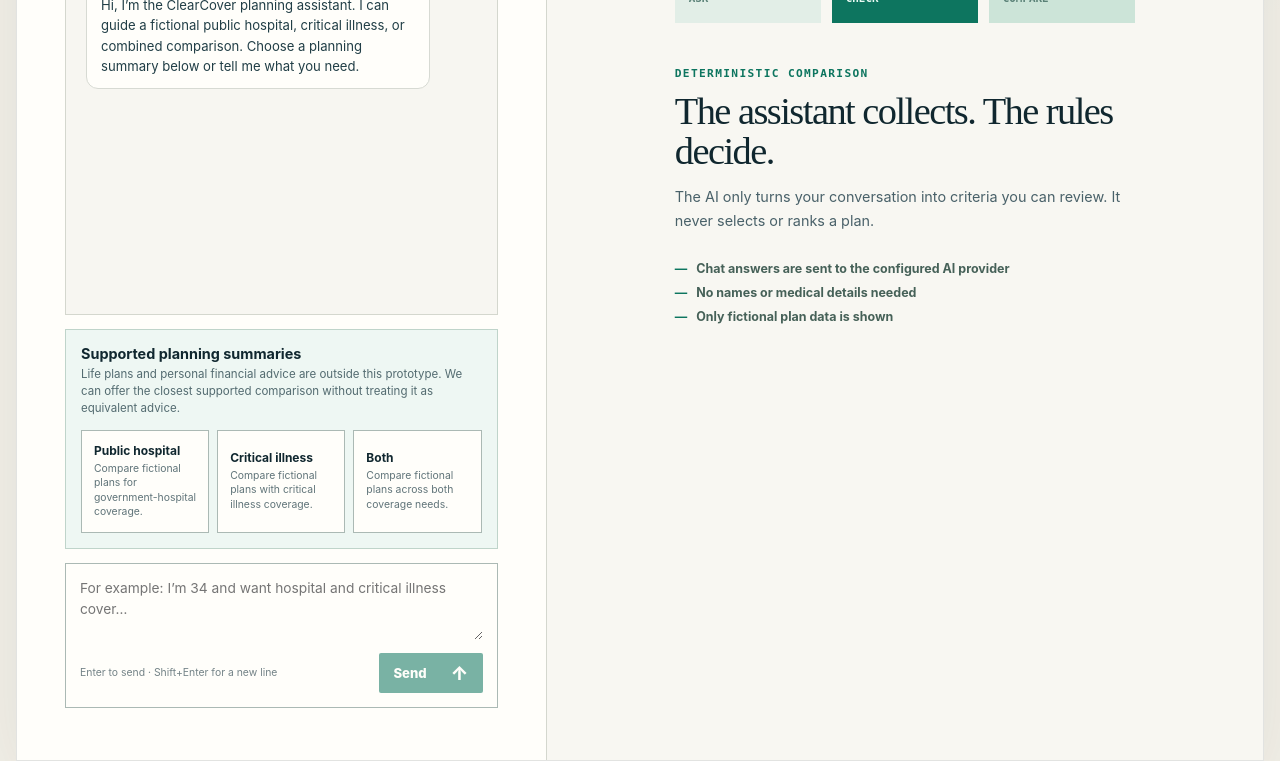
Test: InsurancePlanner › saves each completed comparison as a draft document
(page scrolled)
Type "My complete planning details" into the text box named "Reply to the planning assistant".
click(281, 609); type("My complete planning details")  # box [80,578,482,640]
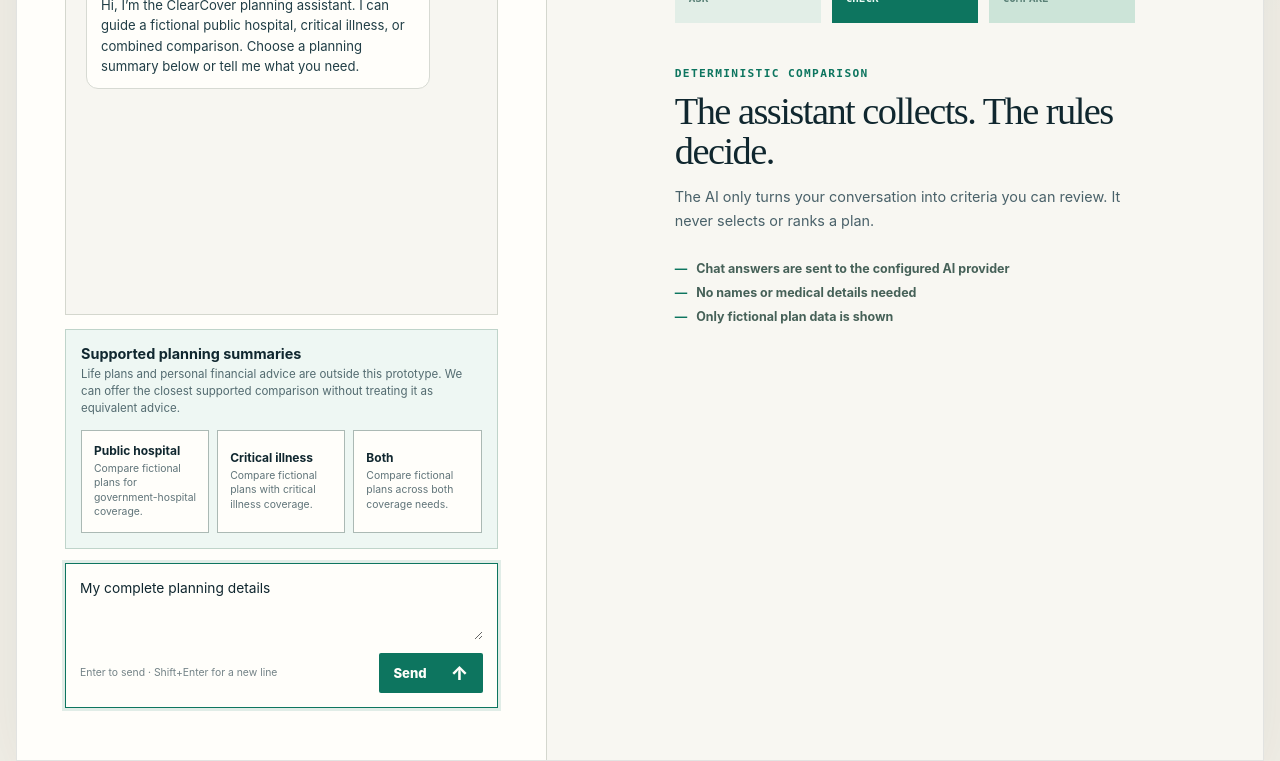
Click the button "Send ↑".
click(431, 673)  # box [379,653,483,693]
(page scrolled)
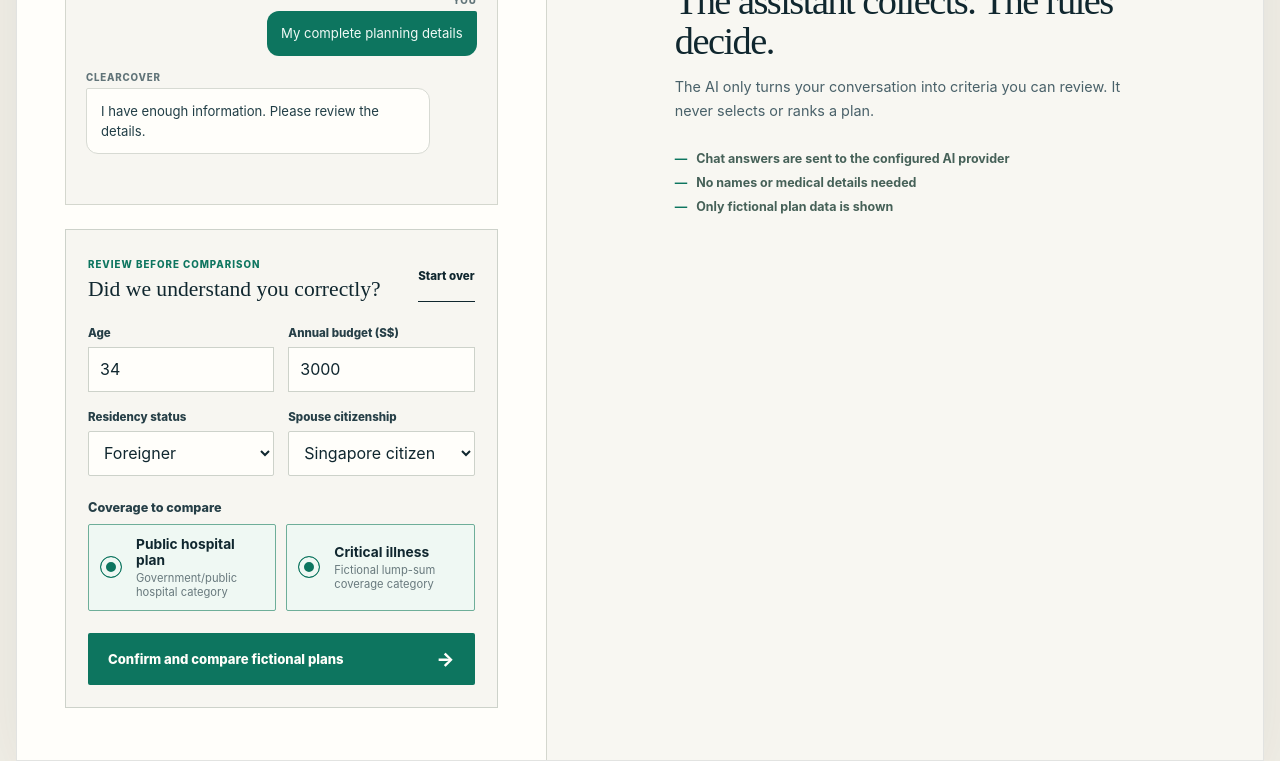
Click the button "Confirm and compare fictional plans →".
click(281, 659)  # box [88,633,474,685]
(page scrolled)
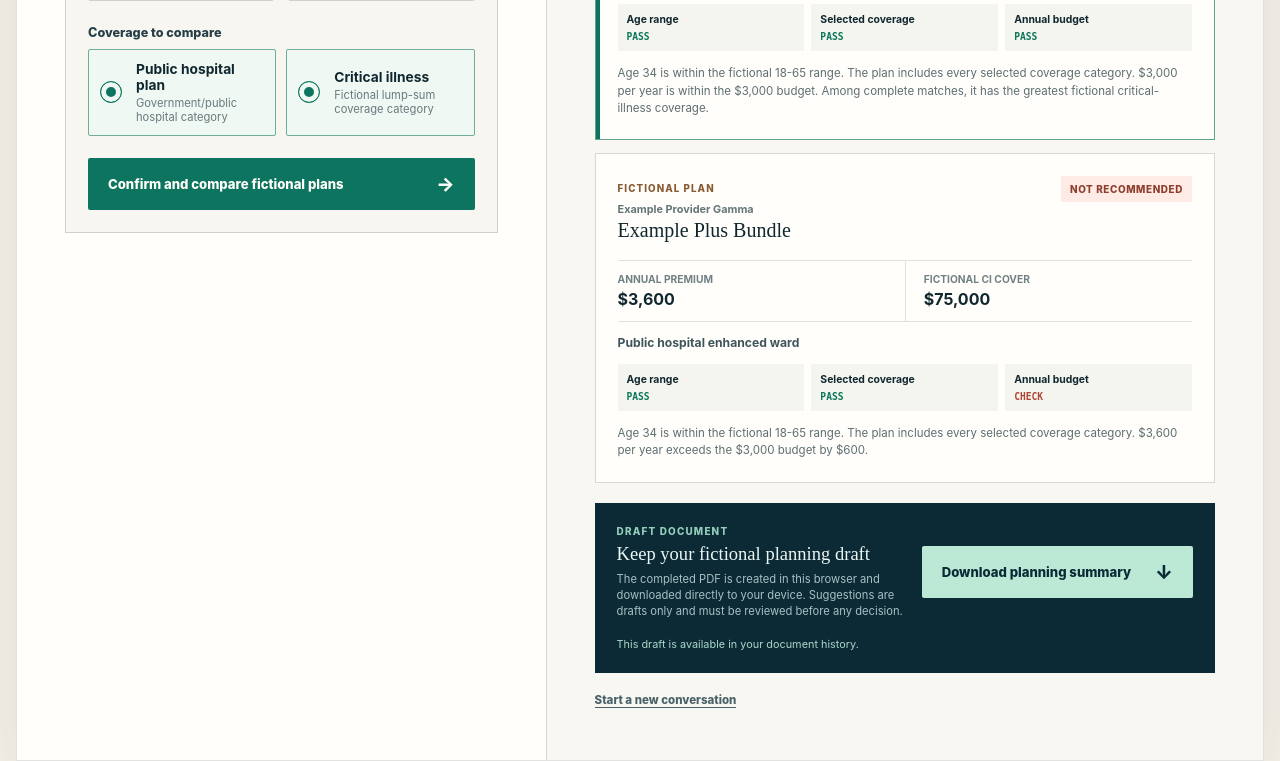
Expected: the text "This draft is available in your document history." is shown, [616,637,859,651]
Expected: the text "Suggestions are drafts only" is shown, [616,572,903,618]
